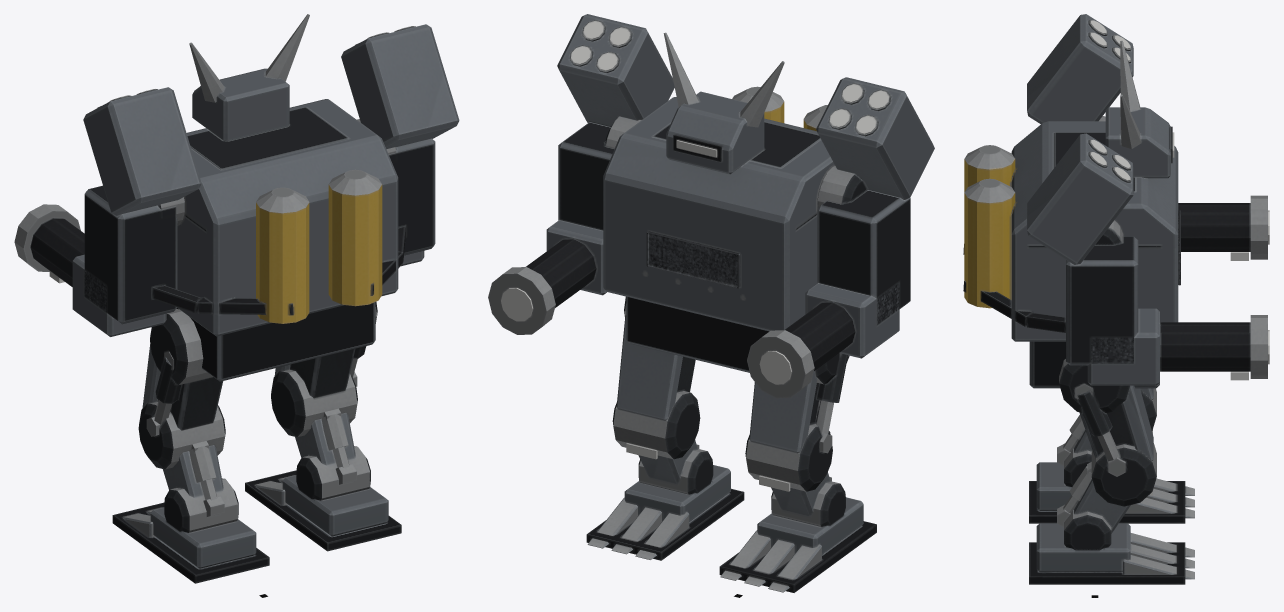
The model's file is chs_infernal.fbx.
3 views of the same model, side by side, from view 1: azimuth 30°, elevation 25°; view 2: azimuth 150°, elevation 25°; view 3: azimuth 270°, elevation 25° (orthographic). The views are drawn at different scales.
Parts seen in each view (by area): view 1: torso_bar, thighL_bar, base_bar, footL_bar, footR_bar, thighR_bar, shinL_bar, shinR_bar; view 2: torso_bar, thighL_bar, thighR_bar, footR_bar, footL_bar, base_bar, torso_glow_weapon_bar, shinR_bar, shinL_bar; view 3: torso_bar, thighR_bar, footR_bar, footL_bar, shinR_bar, base_bar, shinL_bar, torso_glow_weapon_bar, thighL_bar.
Part boxes in pixels (x1,y1,x2,y2): torso_bar: (14, 14, 459, 336); thighL_bar: (138, 308, 225, 469); base_bar: (176, 302, 375, 381); footL_bar: (112, 502, 269, 583); footR_bar: (245, 470, 401, 551); thighR_bar: (271, 302, 377, 437); shinL_bar: (163, 441, 238, 532); shinR_bar: (295, 408, 370, 500); torso_bar: (488, 14, 934, 398); thighL_bar: (745, 353, 849, 491); thighR_bar: (612, 297, 700, 459); footR_bar: (586, 465, 744, 560); footL_bar: (719, 497, 876, 592); base_bar: (626, 296, 768, 372); torso_glow_weapon_bar: (501, 21, 889, 384); shinR_bar: (638, 440, 713, 494); shinL_bar: (771, 472, 845, 526); torso_bar: (963, 14, 1267, 385); thighR_bar: (1059, 359, 1156, 506); footR_bar: (1029, 523, 1194, 584); footL_bar: (1029, 462, 1194, 523); shinR_bar: (1057, 462, 1130, 550); base_bar: (1029, 341, 1159, 388); shinL_bar: (1057, 415, 1092, 486); torso_glow_weapon_bar: (1090, 20, 1269, 364); thighL_bar: (1140, 388, 1156, 430).
Size of the model in its own units: 1078 by 1772 by 929.
2 materials, 2 textured.
